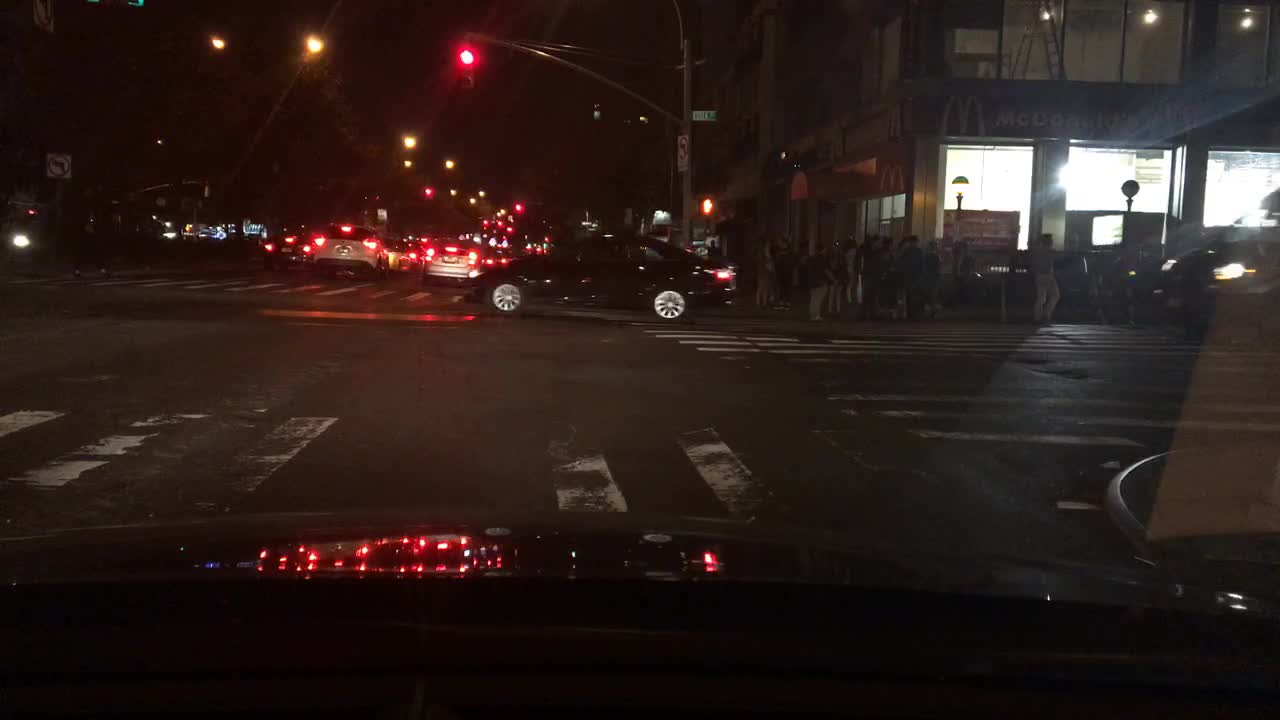car: (462, 229, 735, 320), (1149, 238, 1279, 342), (309, 221, 390, 283), (422, 233, 482, 282), (260, 229, 314, 273), (378, 228, 411, 273), (0, 227, 42, 255), (484, 239, 514, 272), (403, 236, 423, 266)
person: (1027, 231, 1063, 329), (852, 228, 884, 327), (800, 239, 835, 327), (769, 231, 803, 312), (901, 234, 928, 327), (874, 233, 901, 326), (751, 234, 776, 319), (823, 243, 845, 326), (840, 233, 859, 326), (918, 239, 941, 312), (705, 238, 720, 255)
traffic light: (457, 45, 476, 84), (695, 194, 712, 219), (420, 180, 433, 206), (509, 199, 521, 219), (126, 0, 145, 10)
traffic sign: (30, 2, 60, 34), (44, 152, 76, 179), (675, 131, 690, 172), (690, 106, 719, 123)
